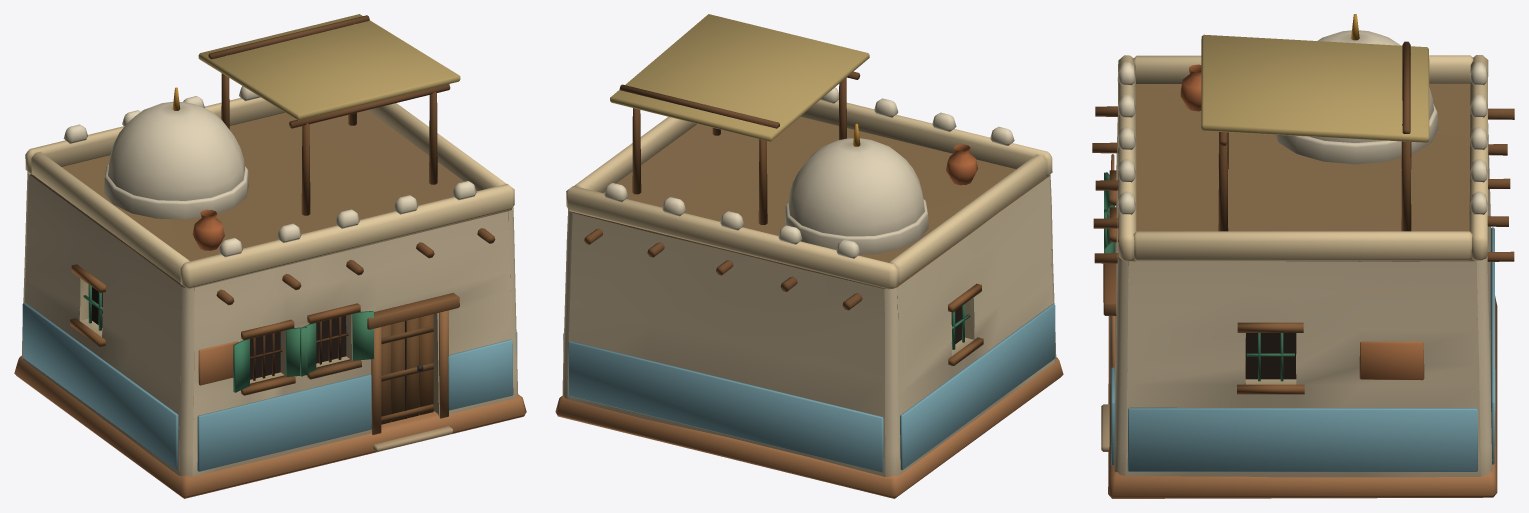
Rendered from house_d.glb.
3 views of the same model, side by side, from view 1: azimuth 30°, elevation 25°; view 2: azimuth 150°, elevation 25°; view 3: azimuth 270°, elevation 25° (orthographic). The views are drawn at different scales.
Parts seen in each view (by area): view 1: house_d; view 2: house_d; view 3: house_d.
Boxes of the visible parts, x1,y1,x2,y2 form: house_d: [14, 14, 526, 498]; house_d: [555, 14, 1063, 498]; house_d: [1092, 14, 1514, 498].
Size of what is drawn, in the model's own units: 5.62 by 4.95 by 5.24.
